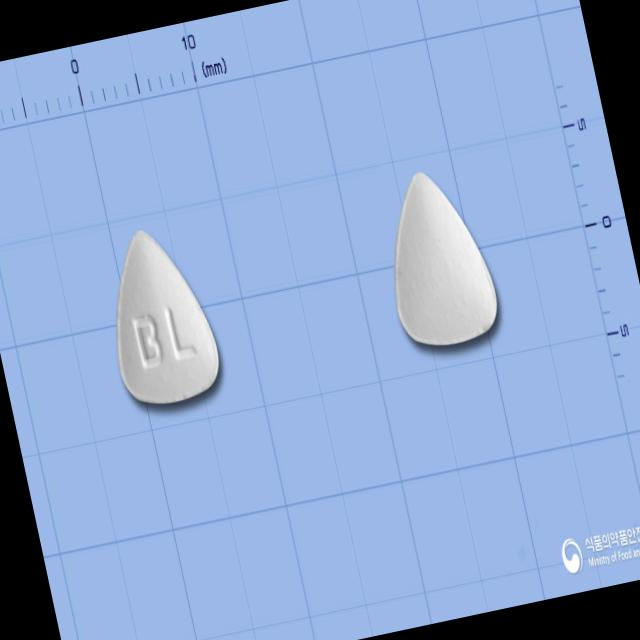Baracle -1mg: (89, 216, 231, 417)
